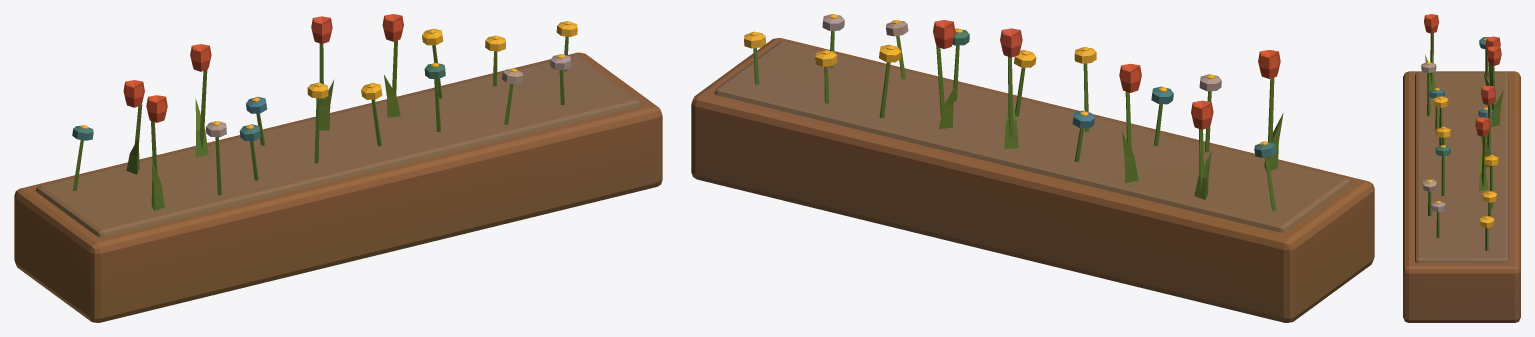
Rendered from FlowerBed_Long_01.glb.
The picture shows the model from 3 angles, left to right: view 1: azimuth 30°, elevation 25°; view 2: azimuth 150°, elevation 25°; view 3: azimuth 270°, elevation 25°; orthographic projection. The views are drawn at different scales.
Parts seen in each view (by area): view 1: FlowerBed_Long_01; view 2: FlowerBed_Long_01; view 3: FlowerBed_Long_01.
Boxes of the visible parts, <box> form: FlowerBed_Long_01: <box>14,14,662,322</box>; FlowerBed_Long_01: <box>691,14,1374,322</box>; FlowerBed_Long_01: <box>1403,14,1520,322</box>.
Size of the model in its own units: 2.4 by 0.7775 by 0.6.
